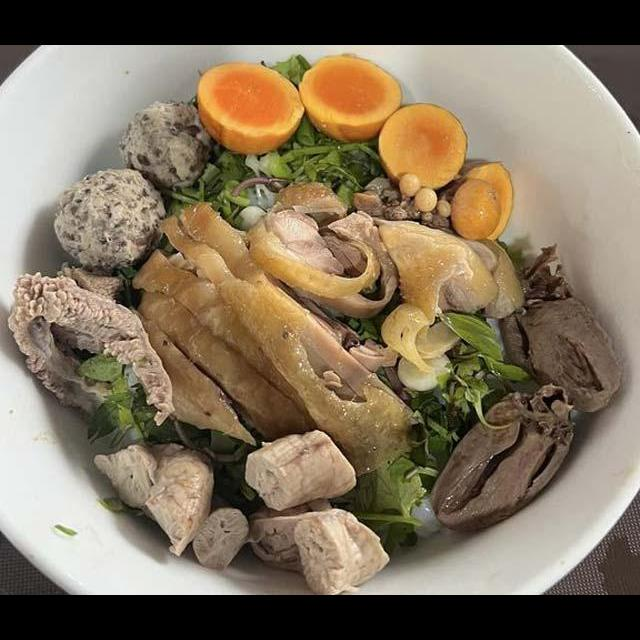thit ga: (152, 198, 425, 482), (128, 246, 325, 429), (134, 283, 319, 449), (363, 212, 530, 378), (241, 176, 402, 323), (116, 304, 263, 452)
thit heo: (0, 254, 178, 430)
trung: (191, 55, 309, 159), (291, 49, 406, 149), (371, 99, 474, 196), (435, 155, 516, 245)
vien moc: (50, 164, 170, 277), (112, 95, 225, 193)
